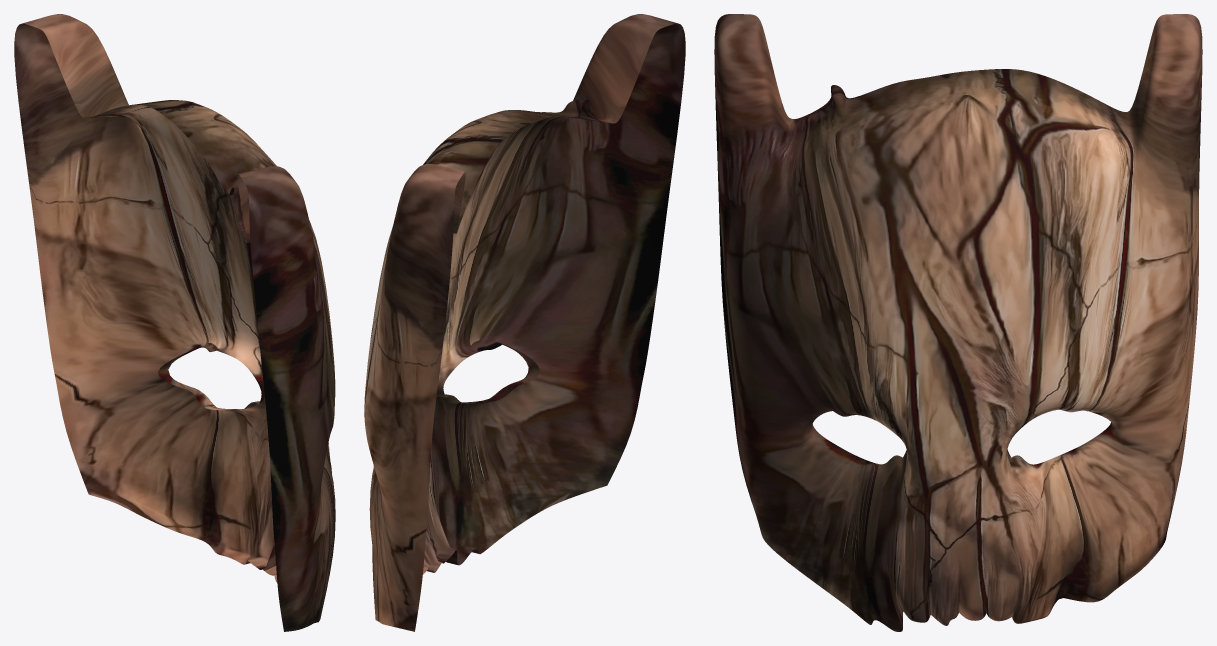
The model's file is Mask2.fbx.
3 views of the same model, side by side, from view 1: azimuth 30°, elevation 25°; view 2: azimuth 150°, elevation 25°; view 3: azimuth 270°, elevation 25° (orthographic). The views are drawn at different scales.
Visible parts, largest first — view 1: Mask2; view 2: Mask2; view 3: Mask2.
Part boxes in pixels (x1,y1,x2,y2): Mask2: [14, 14, 335, 631]; Mask2: [364, 14, 685, 631]; Mask2: [714, 14, 1202, 631].
Size of the model in its own units: 8.42 by 23.82 by 19.35.
